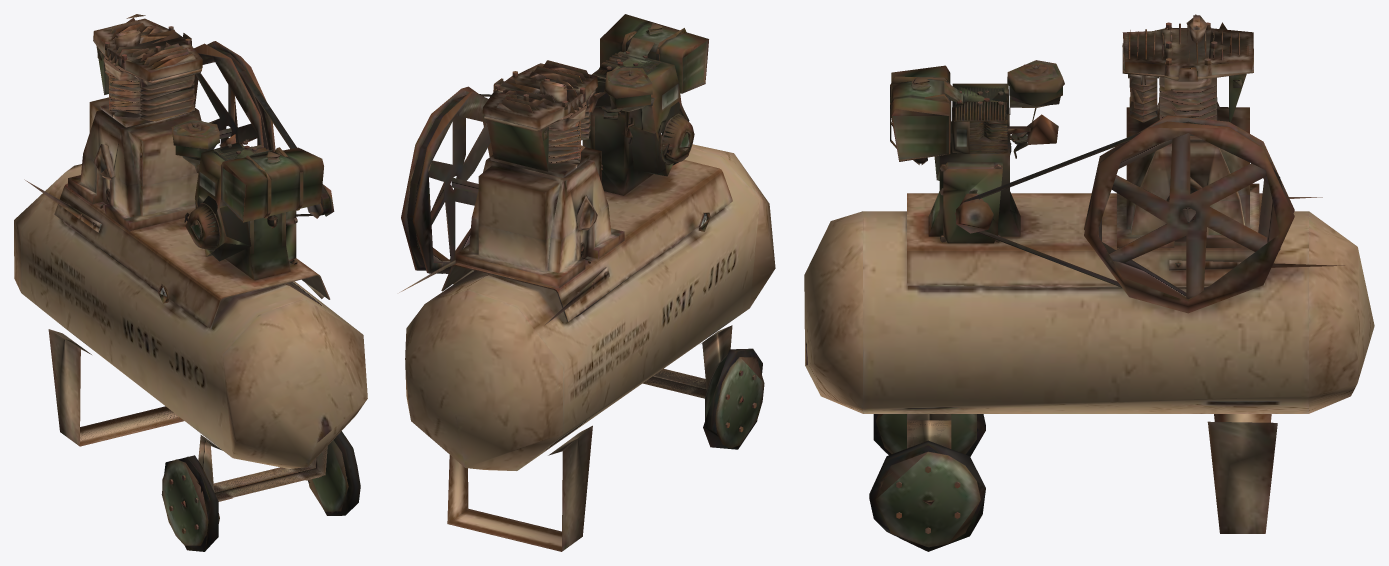
Rendered from old_military_compressor.glb.
The picture shows the model from 3 angles, left to right: view 1: azimuth 30°, elevation 25°; view 2: azimuth 150°, elevation 25°; view 3: azimuth 270°, elevation 25°; orthographic projection. The views are drawn at different scales.
Visible parts, largest first — view 1: old_military_compressor; view 2: old_military_compressor; view 3: old_military_compressor.
Boxes of the visible parts, x1,y1,x2,y2 form: old_military_compressor: (14, 14, 367, 551); old_military_compressor: (399, 14, 775, 551); old_military_compressor: (804, 14, 1374, 551).
Bounding box in the file's own units: 0.4769 × 1.17 × 1.25.
Materials: 2 (2 with a texture image).
